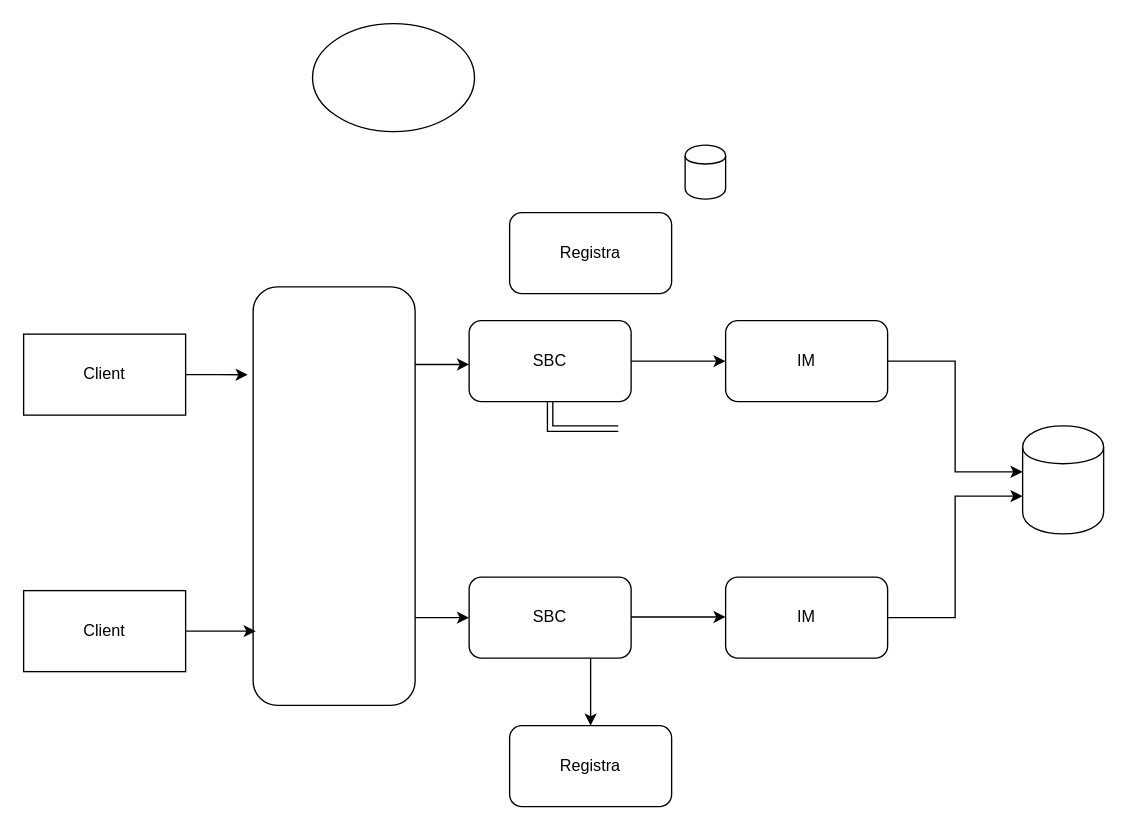
Image size: 1127x830. Some labels were removed from this diagram. The shapes that lost their labels are listed below. From the top down, each one's centre as x and y in pixels, then its label:
At (x=705, y=171): "DB".
At (x=333, y=495): "LB".
At (x=1062, y=479): "PUBSUB".
